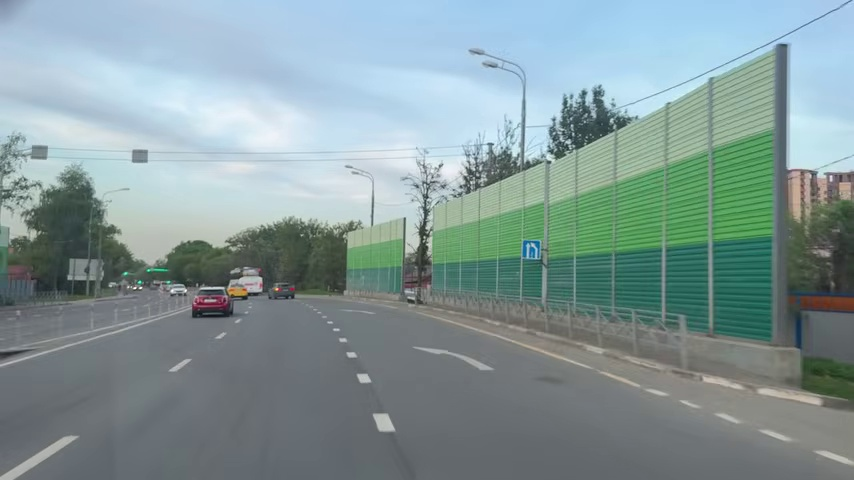apagada: (43, 434, 76, 462), (467, 46, 486, 64), (343, 164, 361, 179)
